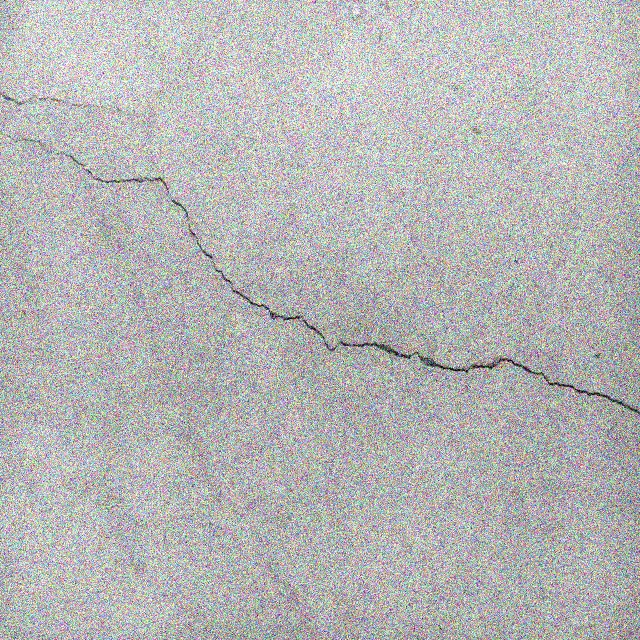SurfaceCrack: (0, 4, 639, 469)
